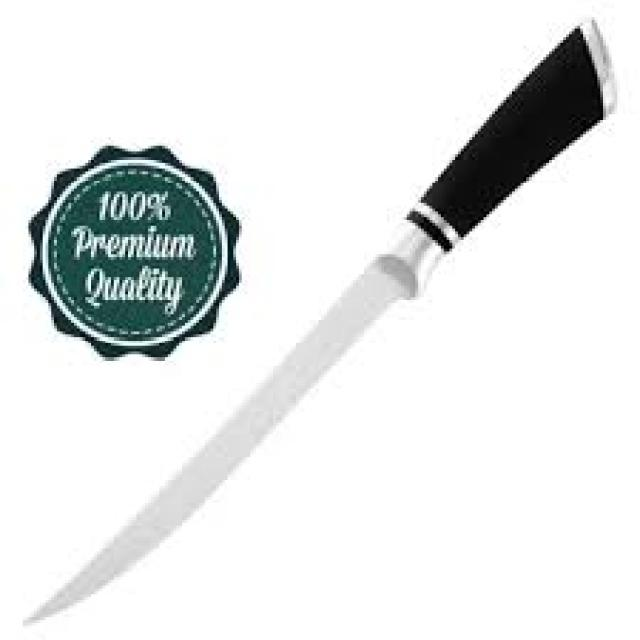Knife: (28, 26, 603, 620)
